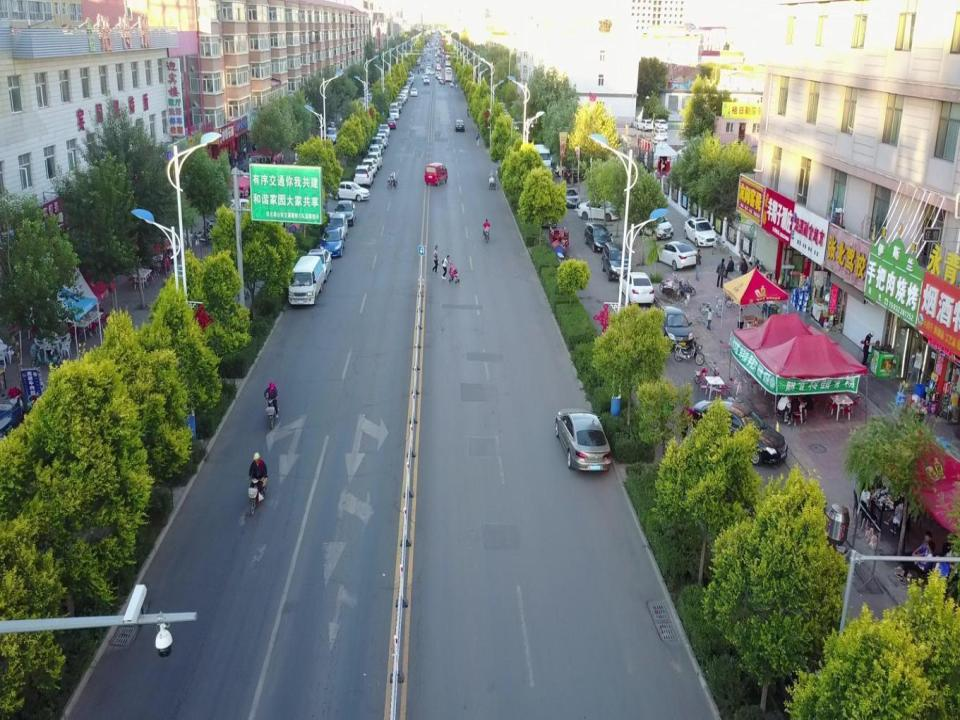bus: (444, 67, 452, 81), (445, 54, 451, 66)
car: (682, 402, 787, 466), (555, 406, 612, 472), (655, 305, 693, 351), (135, 223, 174, 266), (220, 201, 259, 237), (601, 241, 633, 281), (654, 242, 697, 270), (619, 272, 654, 306), (635, 210, 672, 241), (684, 218, 720, 248), (328, 179, 372, 203), (584, 223, 612, 255), (305, 250, 332, 282), (321, 227, 345, 258), (422, 162, 450, 188), (327, 212, 350, 237), (336, 199, 356, 224), (356, 164, 376, 187), (360, 157, 378, 178), (367, 154, 381, 170), (367, 146, 381, 162), (371, 138, 384, 154), (376, 124, 390, 138), (376, 134, 388, 146), (388, 110, 399, 121), (454, 120, 464, 132), (385, 118, 395, 129), (438, 78, 446, 86), (423, 76, 430, 85), (411, 88, 417, 97), (437, 73, 443, 81), (421, 73, 426, 80)
van: (286, 258, 322, 306), (388, 102, 399, 114)
